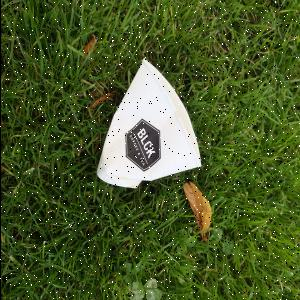Cup: (95, 57, 204, 195)
